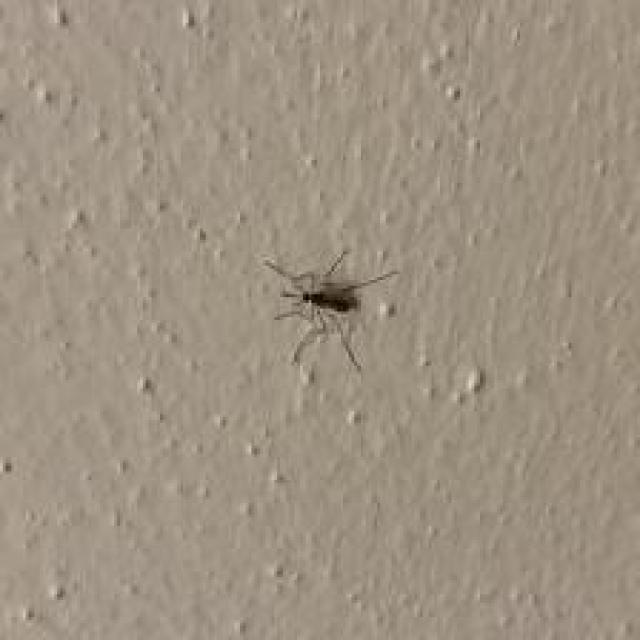Culex: (262, 247, 398, 379)
